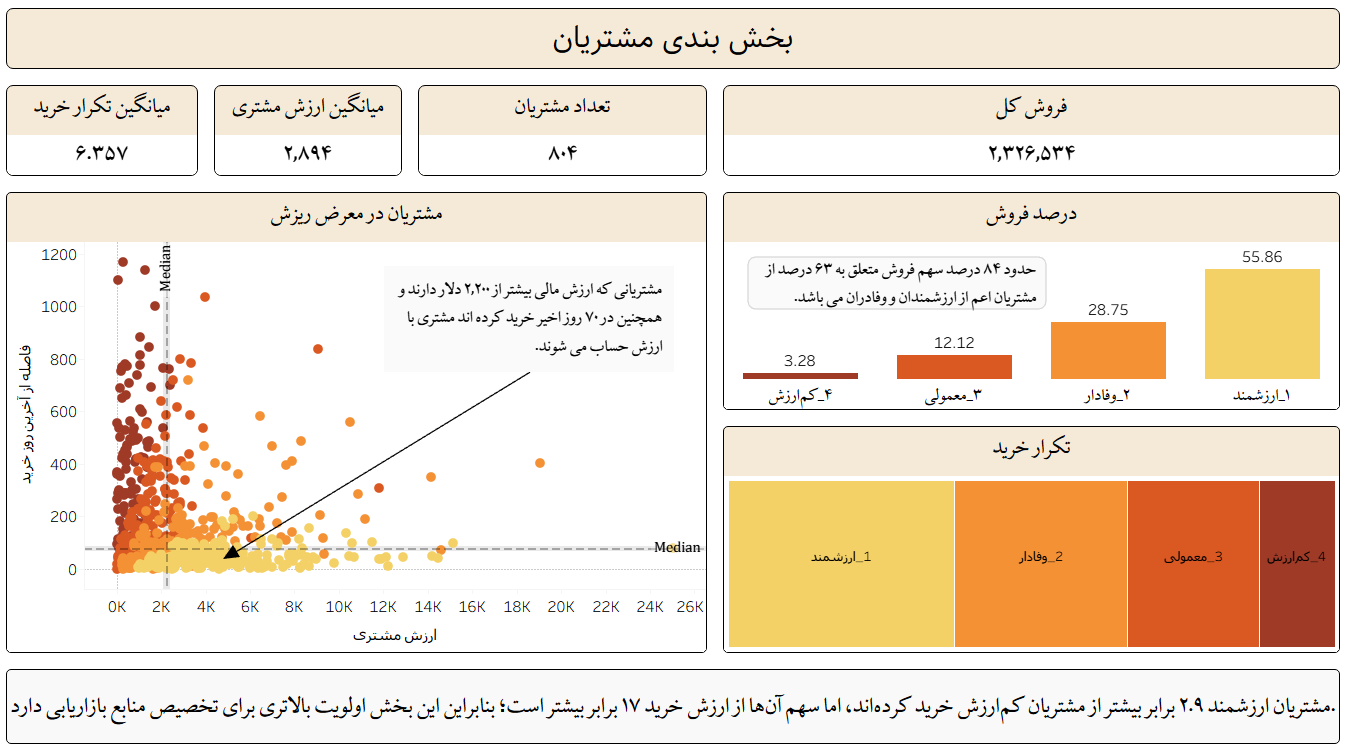

This screenshot's page, from the dashboard's own definition file:
{"tool":"tableau","page":{"name":"RFM Analytics","canvas":[1366,768],"ordinal":0},"visuals":[{"type":"title","box":[8,8,1350,77.4]},{"type":"worksheet","title":"میانگین تکرار خرید","mark":"Automatic","box":[8,85.4,208,106.6]},{"type":"worksheet","title":"میانگین ارزش مشتری","mark":"Automatic","box":[216,85.4,204,106.6]},{"type":"worksheet","title":"تعداد مشتریان","mark":"Automatic","box":[420,85.4,305,106.6]},{"type":"worksheet","title":"فروش کل","mark":"Automatic","box":[725,85.4,633,106.6]},{"type":"worksheet","title":"ریزش مشتری","mark":"Shape","rows":["Calculation_1819192315949058"],"cols":["Calculation_1748824157671436"],"box":[8,192,717,477]},{"type":"worksheet","title":"درصد فروش","mark":"Bar","rows":["Calculation_1748824132677641"],"cols":["Calculation_1819192362385435"],"box":[725,192,633,233.5]},{"type":"worksheet","title":"تکرار خرید","mark":"Automatic","box":[725,425.5,633,243.5]},{"type":"text","box":[8,669,1350,91]}]}

Visuals, with their boxes in screenshot pixels (x1, y1, x2, y2), scaled from the page's 1366x768 canvas onto the 1350x753 screenshot:
title: detection(8, 8, 1342, 84)
"میانگین تکرار خرید" worksheet: detection(8, 84, 213, 188)
"میانگین ارزش مشتری" worksheet: detection(213, 84, 415, 188)
"تعداد مشتریان" worksheet: detection(415, 84, 717, 188)
"فروش کل" worksheet: detection(717, 84, 1342, 188)
"ریزش مشتری" worksheet (Shape marks): detection(8, 188, 717, 656)
"درصد فروش" worksheet (Bar marks): detection(717, 188, 1342, 417)
"تکرار خرید" worksheet: detection(717, 417, 1342, 656)
text: detection(8, 656, 1342, 745)
